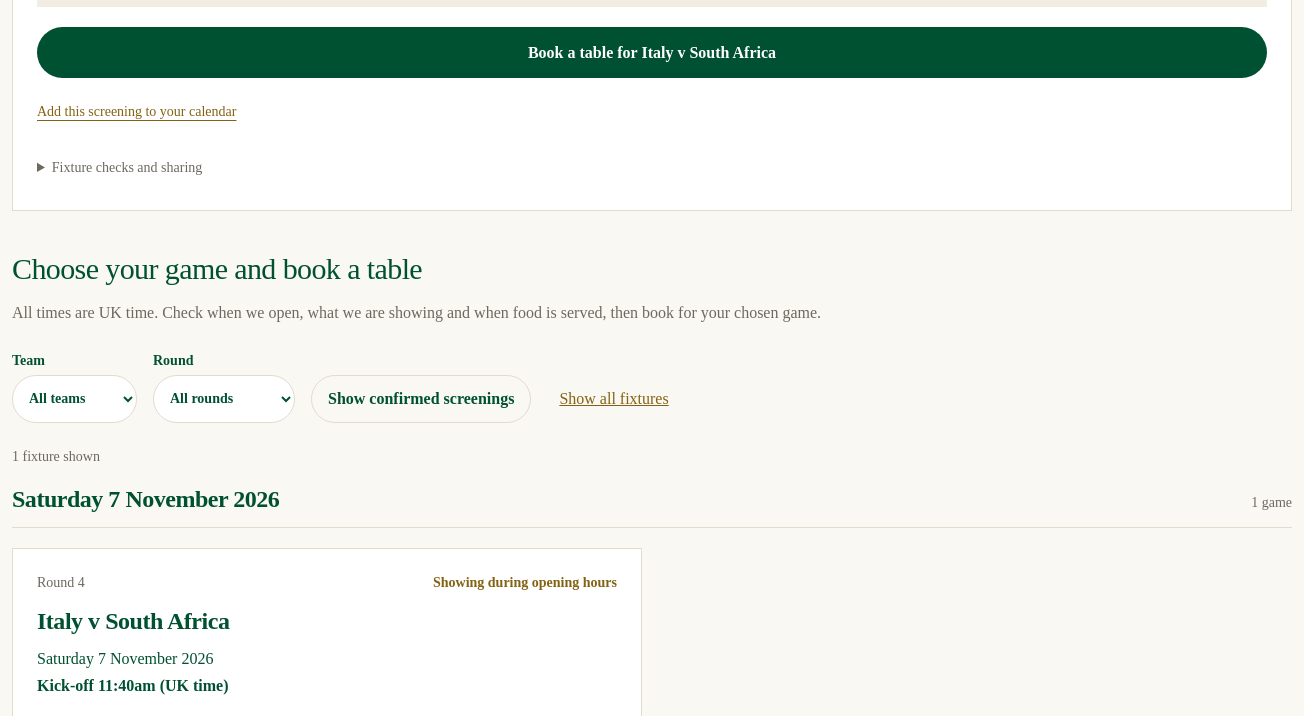
Test: shows all fixtures then filters by team without changing URLs
The width and height of the screenshot is (1304, 716).
(page scrolled)
Expected: the text "1 fixture shown" is shown, [12,448,100,464]
Select "England" in the dropdown named "Filter by team" at (74, 398), box [12,374,137,422]
(page scrolled)
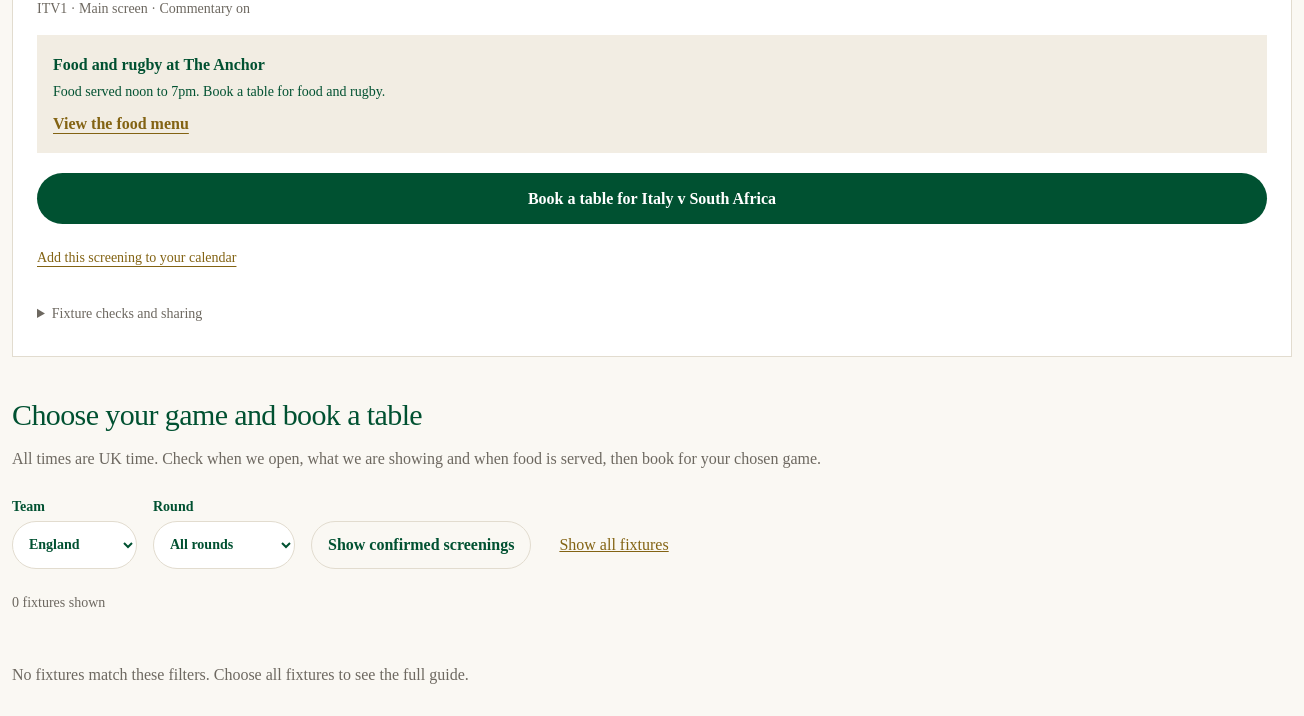
Expected: the text "0 fixtures shown" is shown, [12,594,105,610]
Click the button "Show all fixtures" at (614, 544), box [547,520,681,568]
(page scrolled)
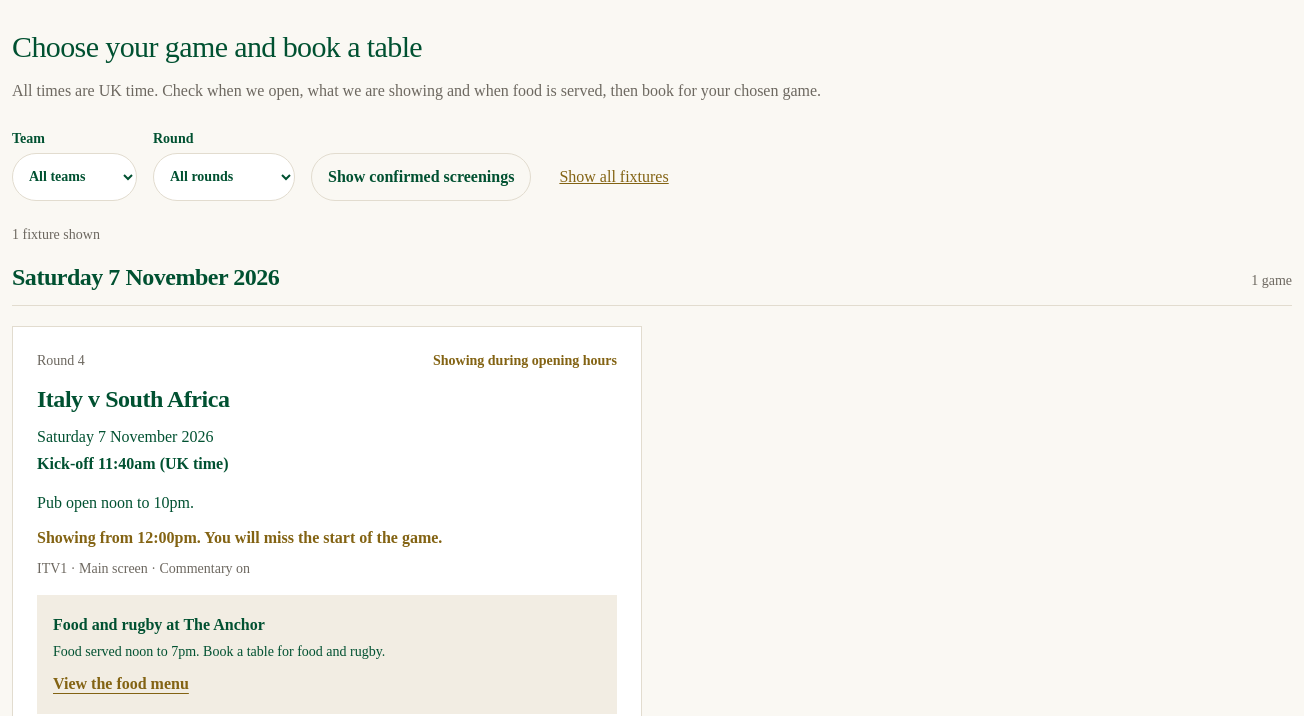
Expected: the heading "Italy v South Africa" is shown, [37,386,229,412]
